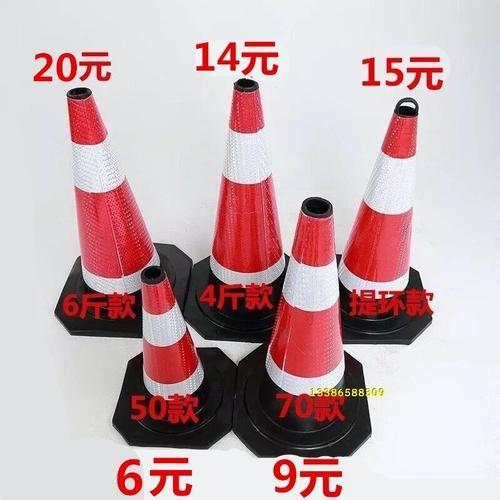cone_barrel: (54, 88, 181, 326), (332, 95, 434, 330), (256, 200, 362, 419), (198, 86, 288, 326), (123, 264, 216, 430)
